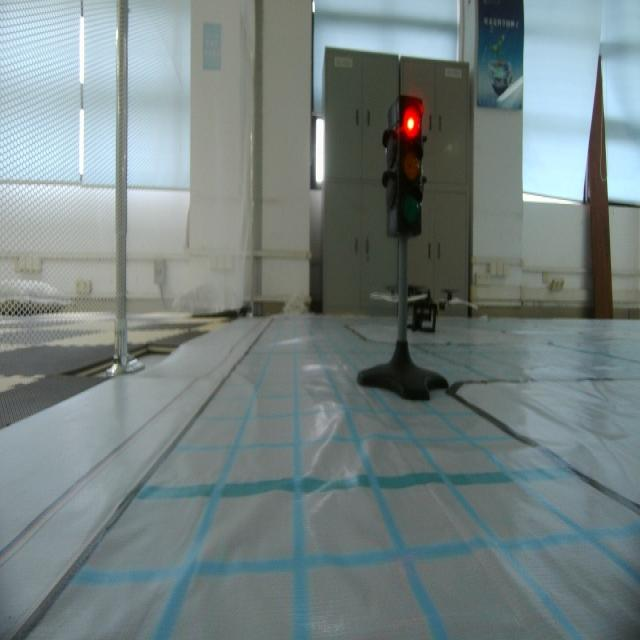red: (379, 92, 429, 245)
